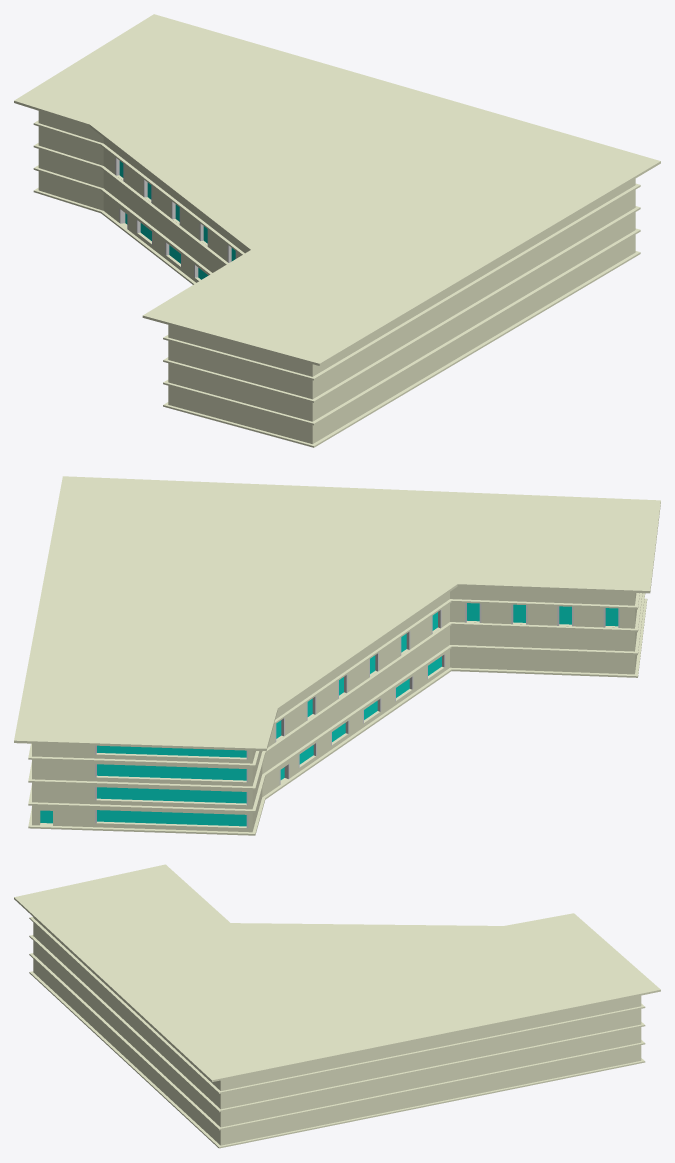
Rendered from Wentworth Building.fbx.
3 renders of one model, top to bottom at view 1: azimuth 30°, elevation 25°; view 2: azimuth 150°, elevation 25°; view 3: azimuth 270°, elevation 25°, orthographic. The views are drawn at different scales.
Visible parts, largest first — view 1: Wentworth Building; view 2: Wentworth Building; view 3: Wentworth Building.
Part boxes in pixels (x1,y1,x2,y2): Wentworth Building: [14, 14, 660, 447]; Wentworth Building: [14, 476, 660, 835]; Wentworth Building: [14, 864, 660, 1148].
Size of the model in its own units: 6989 by 1124 by 8849.
